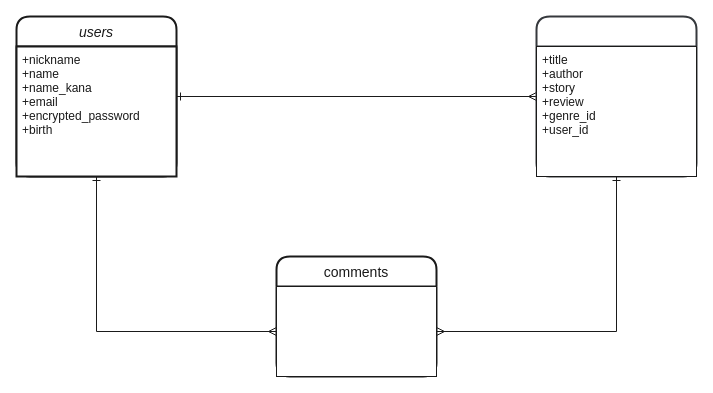
This 713x393 diagram has some shape labels left out. The shapes that lost their labels are listed below. From the top down, each one's box as (x1, y1, x2, y2) in pixels, then its label:
(535, 15, 697, 177): books
(276, 286, 436, 376): +content +user +book
